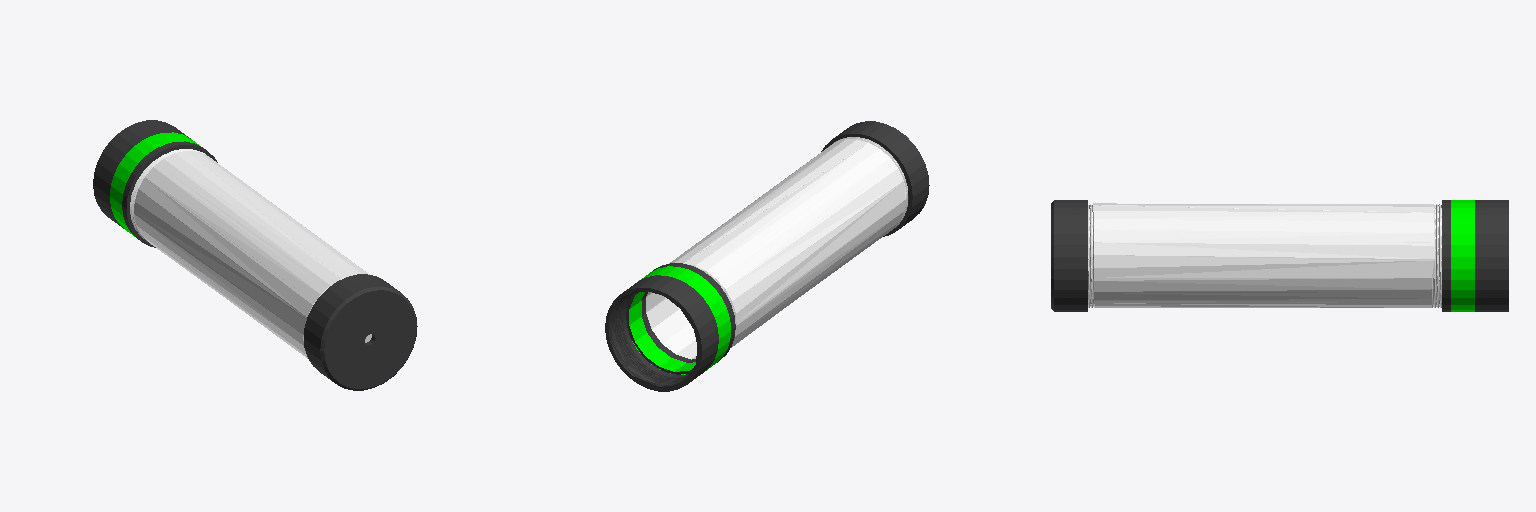
3 views of the same model, side by side, from view 1: azimuth 30°, elevation 25°; view 2: azimuth 150°, elevation 25°; view 3: azimuth 270°, elevation 25° (orthographic).
Size of the model in its own units: 0.0385 by 0.0383 by 0.1568.
1 materials, 1 textured.